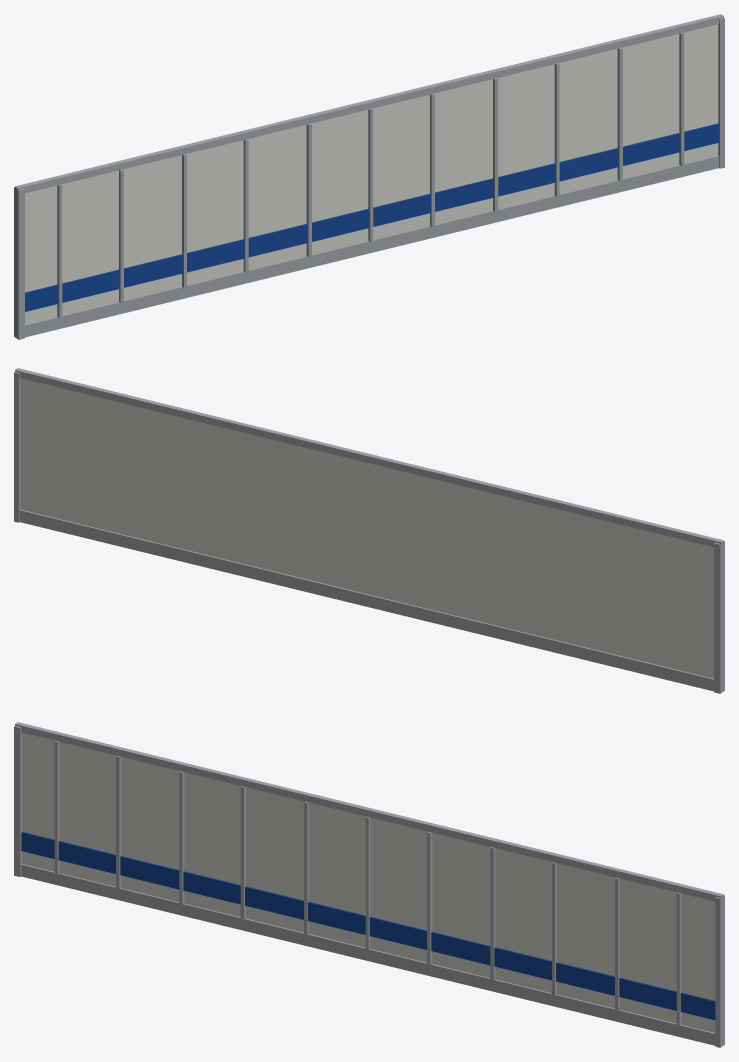
Rendered from semi_trailer_side.glb.
The picture shows the model from 3 angles, top to bottom: view 1: azimuth 30°, elevation 25°; view 2: azimuth 150°, elevation 25°; view 3: azimuth 330°, elevation 25°; orthographic projection.
Parts seen in each view (by area): view 1: body:compound; view 2: body:compound; view 3: body:compound.
Part boxes in pixels (<box>): body:compound: <box>14,14,724,339</box>; body:compound: <box>14,368,724,693</box>; body:compound: <box>14,722,724,1047</box>.
Bounding box in the file's own units: 13.62 × 2.78 × 0.1562.
